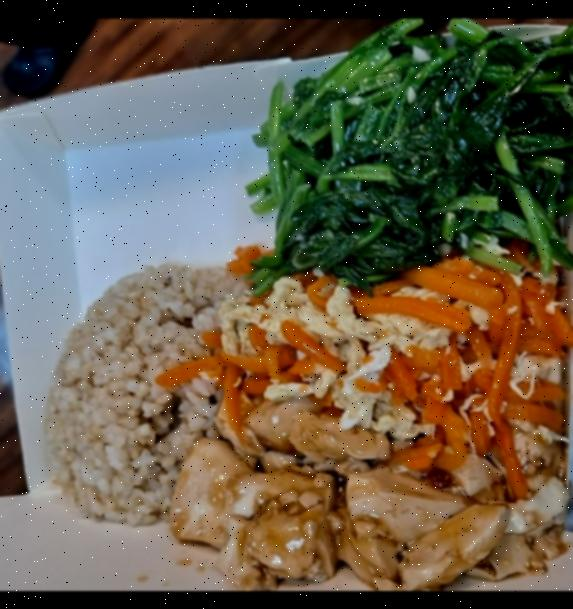box: (0, 34, 573, 557)
brown rice: (44, 264, 256, 524)
side dish: (166, 275, 566, 482), (253, 35, 573, 287), (173, 398, 568, 591)
